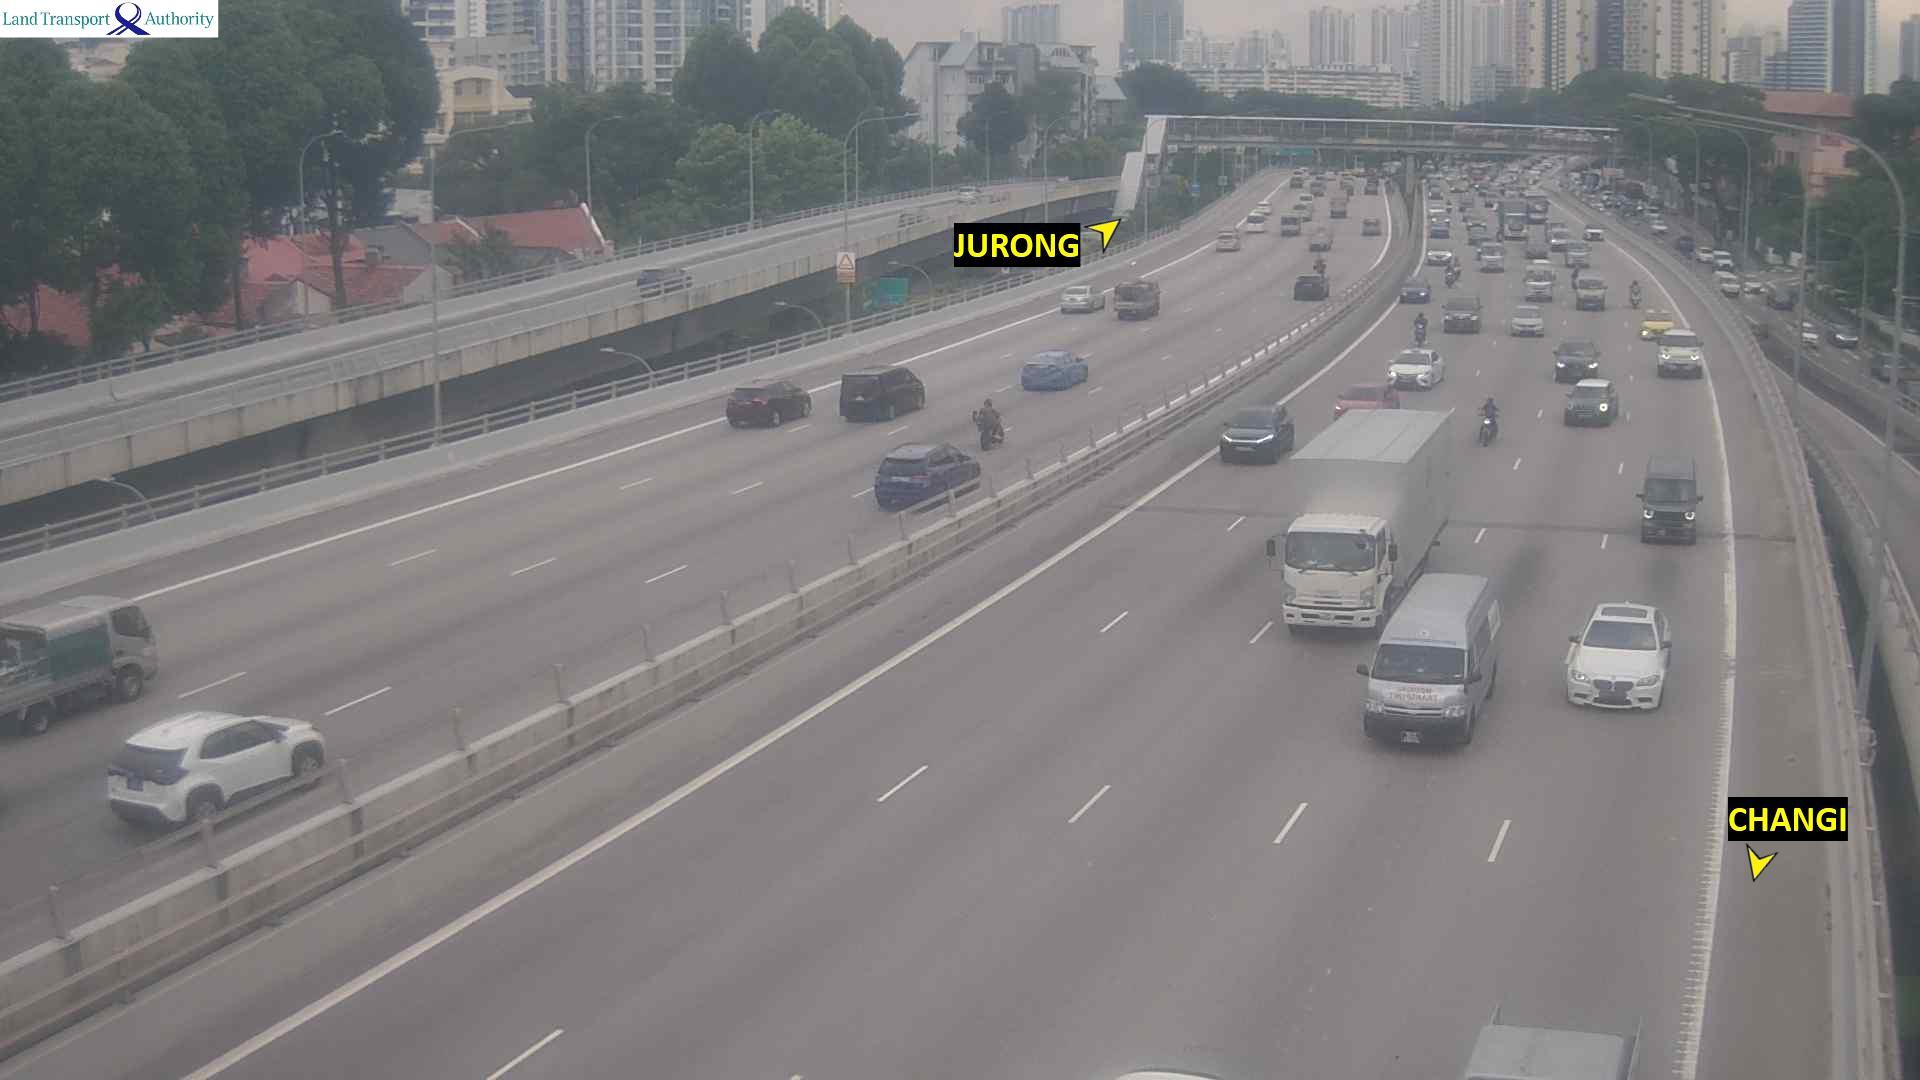cars: (105, 708, 326, 828), (1354, 570, 1503, 747), (1563, 600, 1672, 710), (873, 440, 981, 510), (1634, 452, 1702, 544), (838, 363, 925, 421), (1217, 402, 1294, 462), (725, 379, 811, 428), (1020, 349, 1089, 390), (1562, 376, 1618, 426), (1332, 381, 1400, 420), (1385, 346, 1444, 389), (1655, 327, 1704, 376), (1551, 335, 1600, 382), (1112, 278, 1160, 318), (635, 265, 691, 296), (1440, 296, 1481, 332), (1869, 349, 1913, 382), (1522, 260, 1556, 300), (1059, 283, 1105, 312), (1508, 303, 1543, 336), (1574, 274, 1606, 310), (1640, 308, 1674, 340), (1293, 273, 1329, 301), (1475, 241, 1505, 271), (1398, 277, 1430, 303), (1524, 236, 1552, 265), (1563, 241, 1592, 267), (1741, 270, 1767, 299), (1829, 322, 1859, 347), (1766, 283, 1794, 308), (1800, 318, 1821, 346), (1238, 212, 1267, 232), (1308, 228, 1332, 252), (1718, 272, 1742, 296), (1745, 313, 1768, 337), (1214, 230, 1239, 251), (1648, 217, 1672, 238), (1711, 248, 1733, 270), (1673, 234, 1697, 254), (1424, 248, 1452, 265), (1290, 203, 1313, 223), (1466, 227, 1493, 244), (1694, 246, 1717, 265), (1280, 214, 1300, 235), (1467, 213, 1488, 233), (1430, 221, 1453, 239), (1332, 187, 1353, 205), (1361, 216, 1380, 235), (1503, 183, 1522, 202), (1457, 192, 1477, 210), (1328, 199, 1347, 217), (1426, 185, 1445, 203), (1256, 200, 1277, 216), (1308, 179, 1327, 196), (1430, 212, 1453, 226), (1287, 174, 1305, 191), (1461, 206, 1481, 221), (1484, 191, 1499, 211), (1582, 226, 1603, 240), (1427, 202, 1448, 216), (1297, 191, 1315, 206), (1363, 181, 1378, 197), (1449, 179, 1466, 192)
motorcycle: (971, 408, 1006, 451), (1477, 404, 1500, 446), (1411, 308, 1432, 347), (1628, 278, 1645, 311), (1449, 253, 1466, 281), (1312, 251, 1329, 278), (1569, 262, 1584, 292), (1441, 263, 1456, 288), (1494, 226, 1505, 249), (1444, 198, 1456, 215)
trucks: (1265, 400, 1468, 632), (0, 593, 159, 736), (1456, 998, 1671, 1080), (1494, 197, 1537, 244), (1522, 187, 1554, 228), (1542, 214, 1575, 251)
